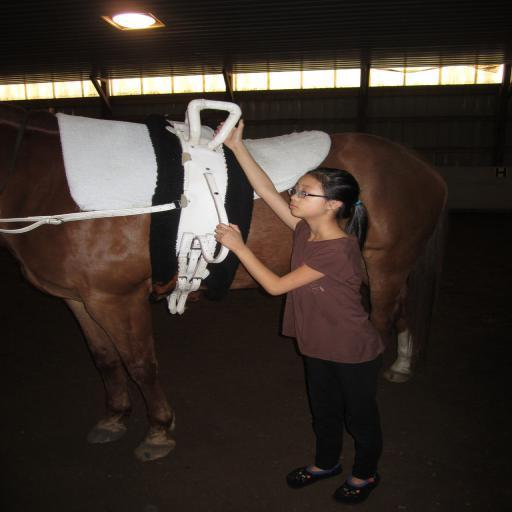Horse: (0, 100, 452, 460)
